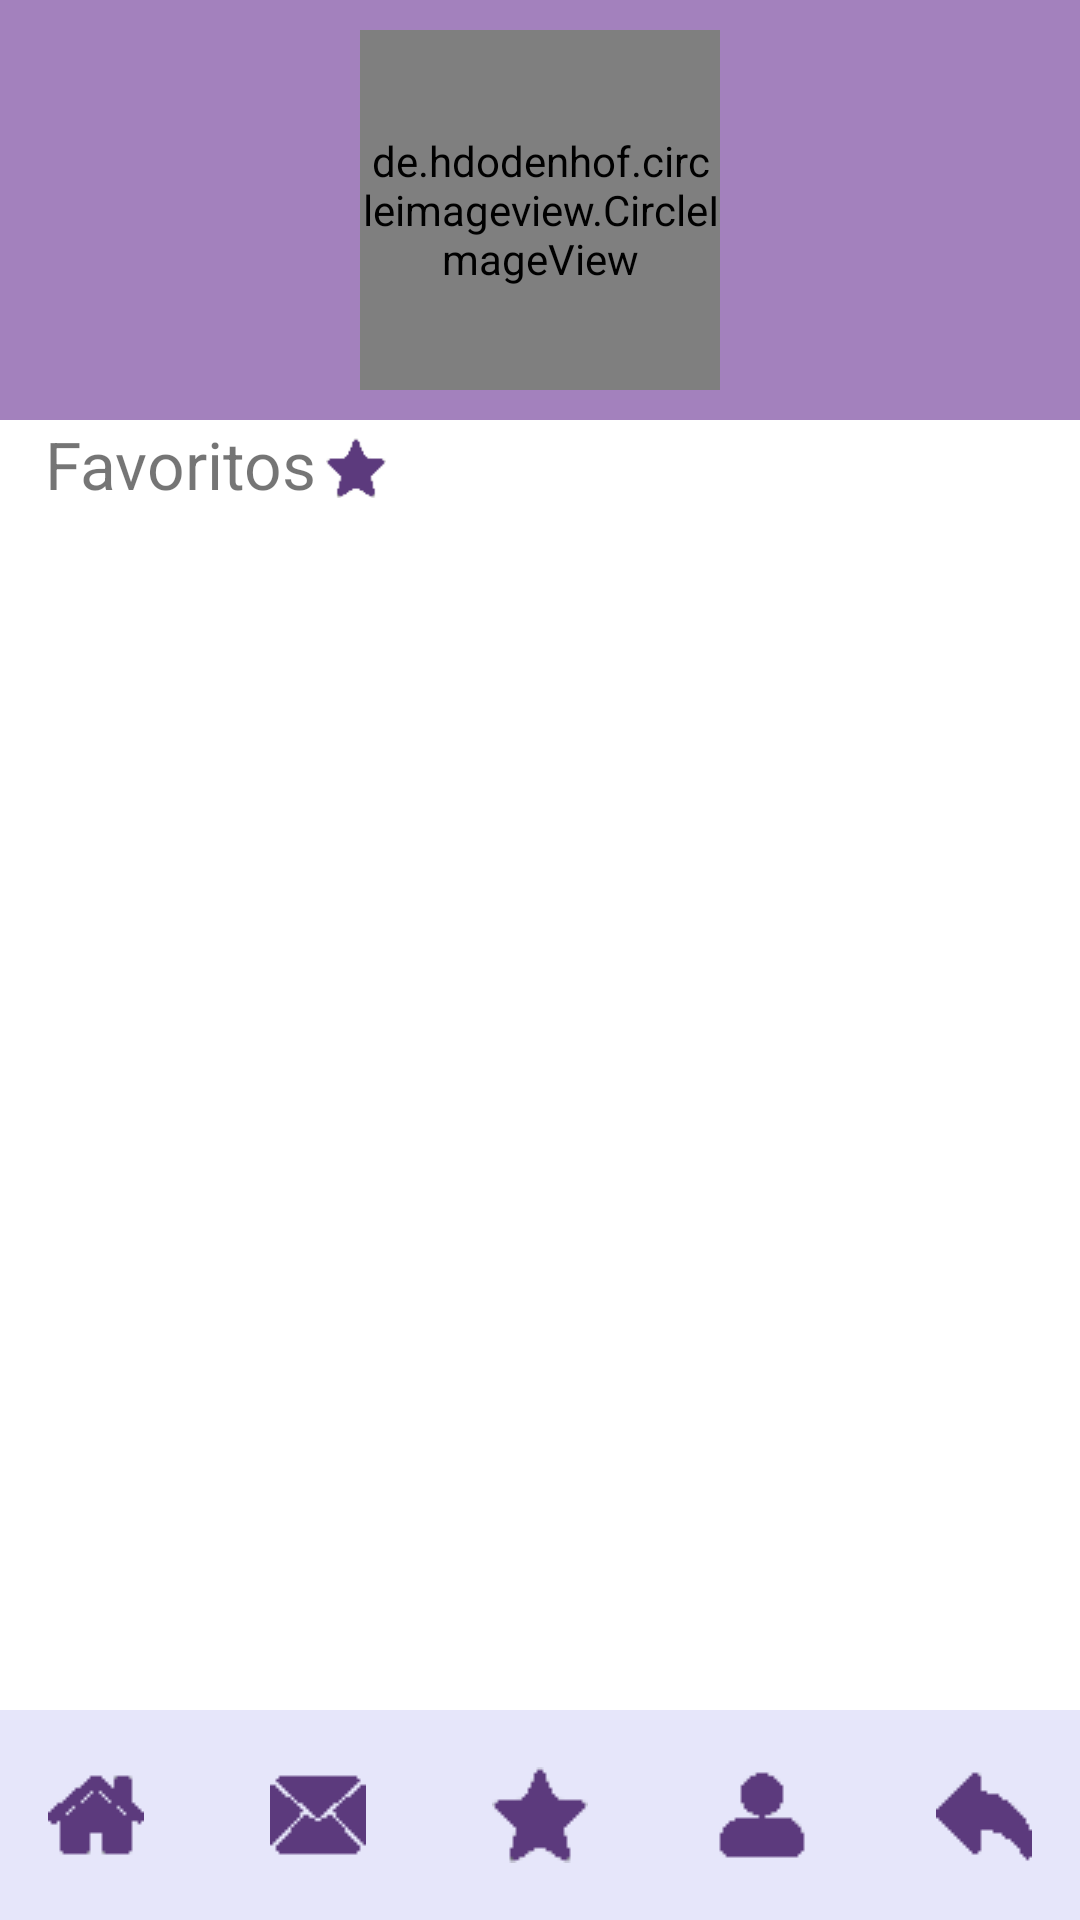

Icon click points for this 1080w x 1920h phone screenshot, format point (x, y):
back: point (984, 1816)
buzon: point (318, 1815)
inicio: point (96, 1815)
perfil: point (762, 1815)
